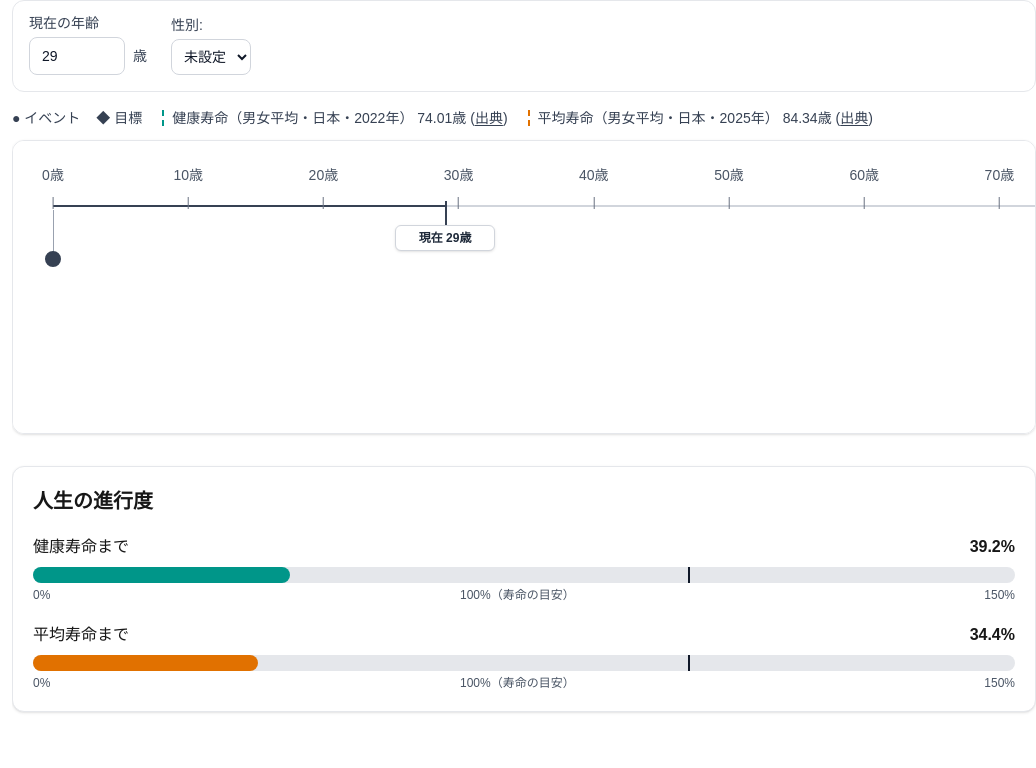
Scenario: Timeline › 説明がない項目は説明がないことを明示する
Click the button named "誕生".
click(53, 259)  # box top-left (37, 243), bottom-right (69, 275)
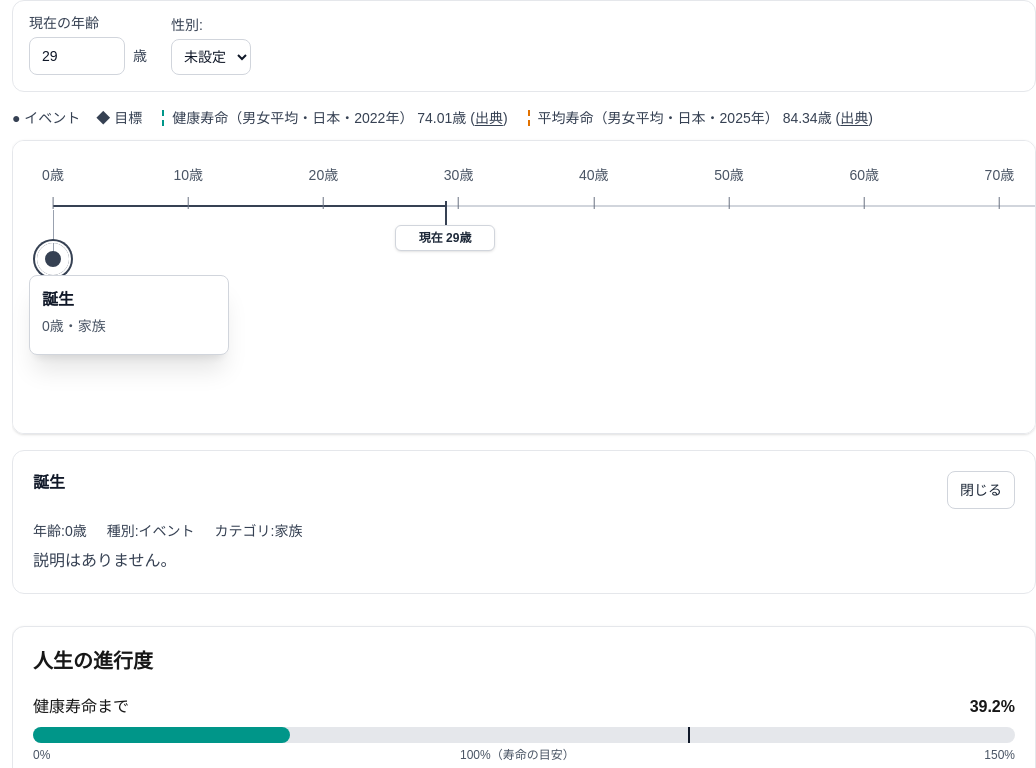
Check: the text "説明はありません。" is shown, box top-left (33, 552), bottom-right (176, 569)
